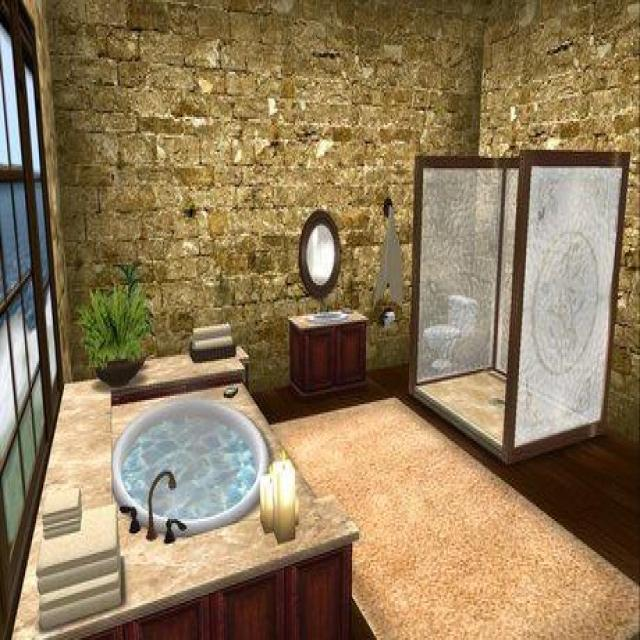cell phone: (224, 386, 238, 398)
pottedplant: (76, 259, 152, 386)
sink: (111, 399, 270, 534), (306, 313, 347, 321)
toilet: (423, 296, 479, 372)
